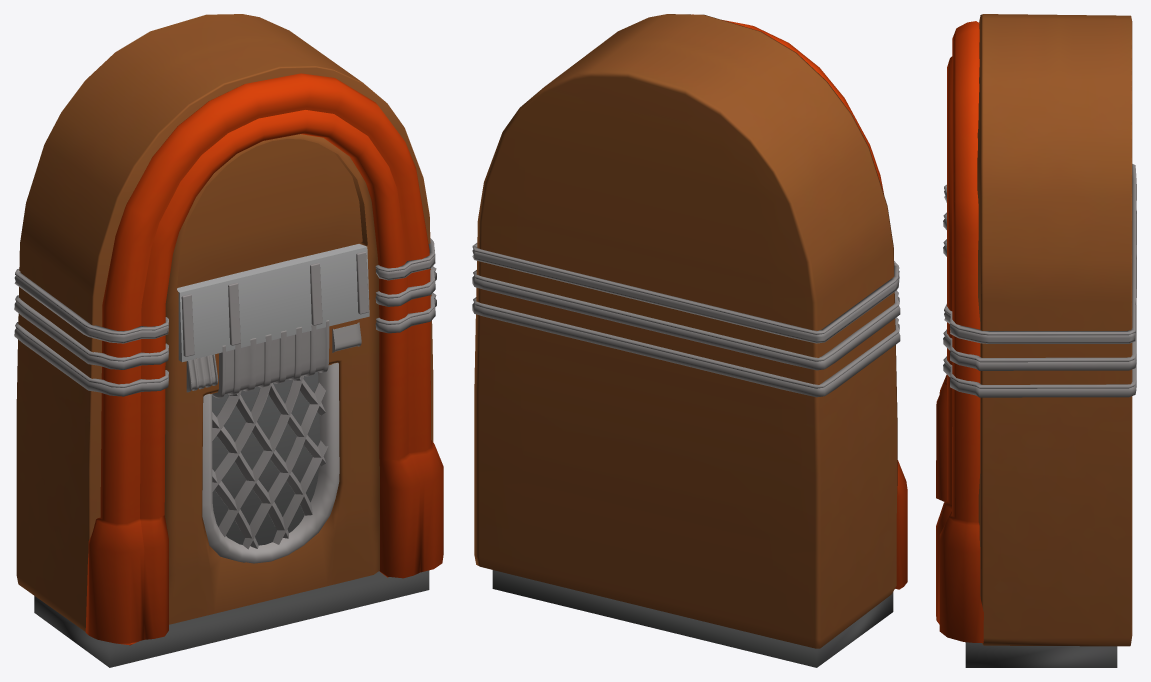
File: Juke.fbx
3 renders of one model, left to right at view 1: azimuth 30°, elevation 25°; view 2: azimuth 150°, elevation 25°; view 3: azimuth 270°, elevation 25°, orthographic.
Parts seen in each view (by area): view 1: JukeBox; view 2: JukeBox; view 3: JukeBox.
Part boxes in pixels (x1,y1,x2,y2): JukeBox: (14,14,443,667); JukeBox: (472,14,907,667); JukeBox: (936,14,1136,667).
Size of the model in its own units: 1.02 by 1.54 by 0.5034.
